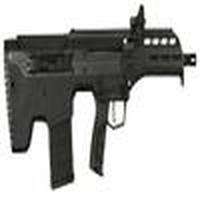gun: (3, 28, 193, 183)
